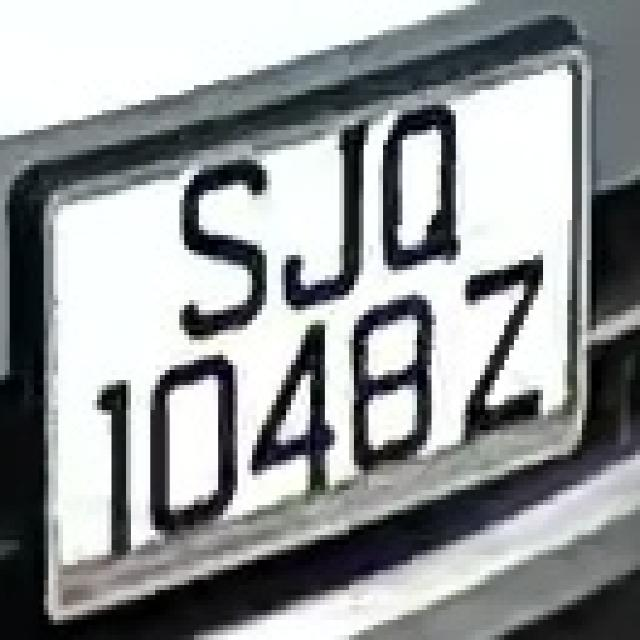0: (126, 335, 252, 565)
1: (97, 355, 141, 575)
4: (218, 305, 344, 520)
8: (325, 285, 446, 485)
J: (276, 85, 374, 325)
Q: (369, 80, 475, 275)
S: (165, 120, 281, 355)
Z: (441, 255, 558, 470)
